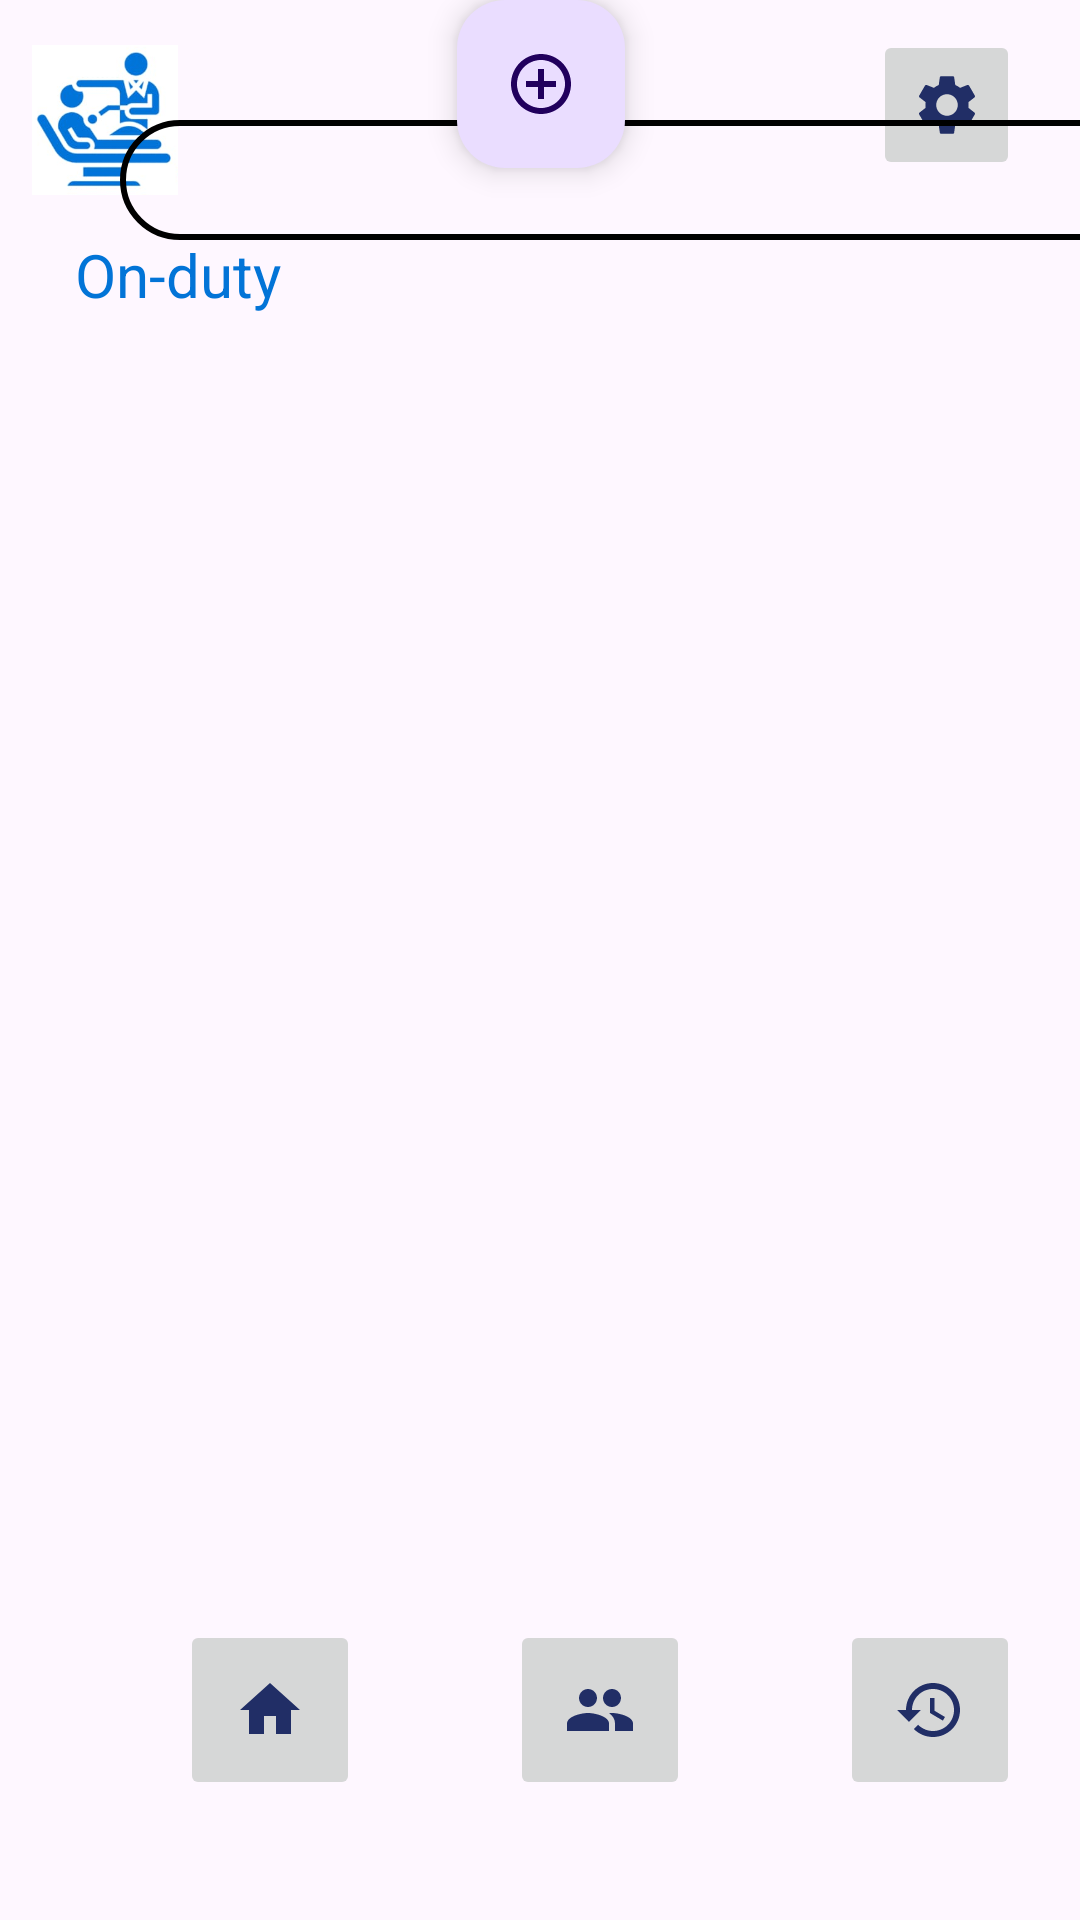

Icons on this 1080px x 1920px Android screen, each with its box as (x1, y1, x2, y2):
add: (457, 0, 625, 168)
History: (852, 1638, 1008, 1782)
Home: (192, 1638, 348, 1782)
Patient: (522, 1638, 678, 1782)
